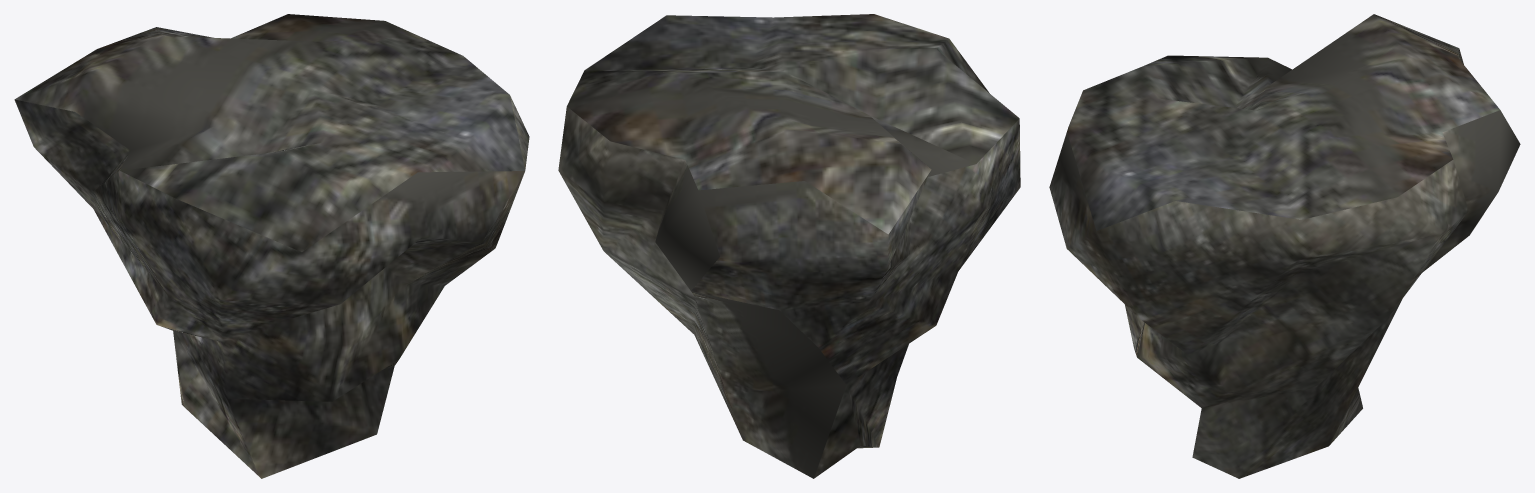
The model's file is Stal9B.fbx.
3 renders of one model, left to right at view 1: azimuth 30°, elevation 25°; view 2: azimuth 150°, elevation 25°; view 3: azimuth 270°, elevation 25°, orthographic. The views are drawn at different scales.
Visible parts, largest first — view 1: Stal2_polySurface22; view 2: Stal2_polySurface22; view 3: Stal2_polySurface22.
Boxes of the visible parts, x1=… form: Stal2_polySurface22: x1=14, y1=14, x2=529, y2=478; Stal2_polySurface22: x1=558, y1=14, x2=1020, y2=478; Stal2_polySurface22: x1=1049, y1=14, x2=1520, y2=478.
Size of the model in its own units: 4.33 by 4.19 by 4.73.
